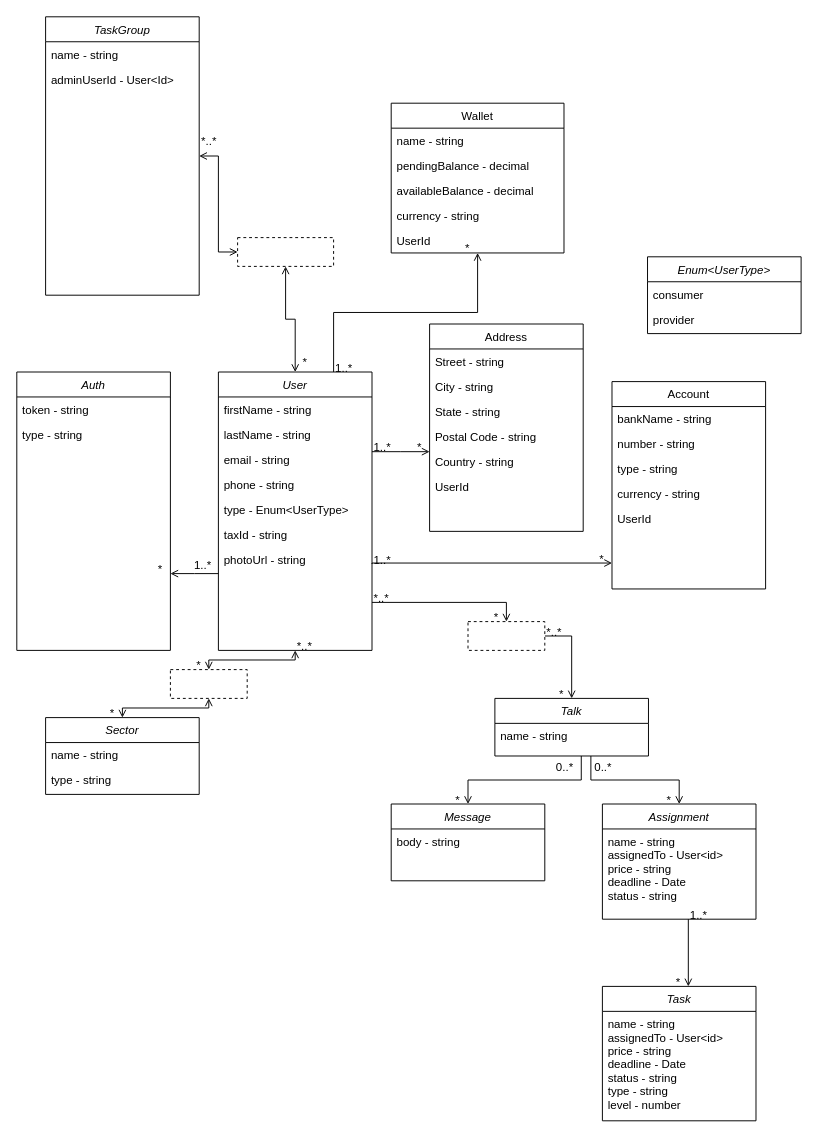
Image size: 818x1140. Some labels were removed from this diagram. The shapes that lost their labels are listed below. From the top down, each one's centre as x and y in pixels, then its label:
the point at 285,251: TaskGroupUser
the point at 506,635: UserTalk
the point at 208,683: SectorUser
